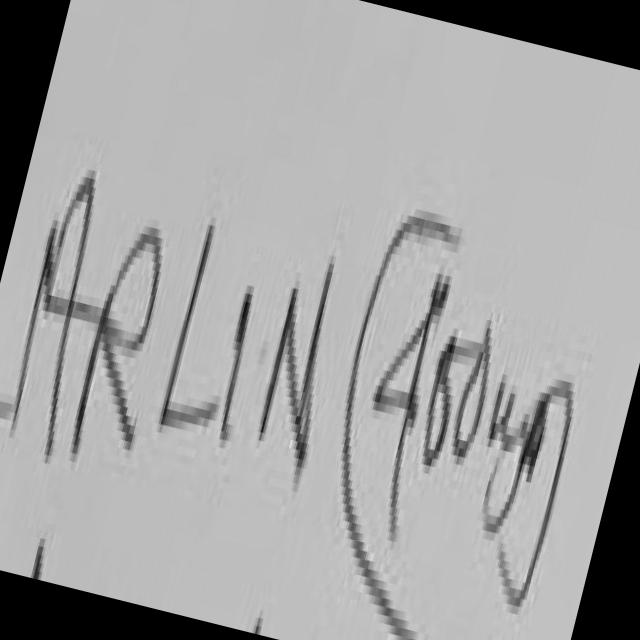0: (404, 306, 479, 490), (436, 308, 511, 478)
4: (330, 258, 462, 542)
A: (0, 97, 141, 479)
I: (195, 218, 289, 477)
L: (142, 180, 264, 450)
N: (227, 221, 367, 515)
R: (47, 172, 198, 498)
g: (490, 371, 560, 548)
m: (476, 346, 538, 464)
